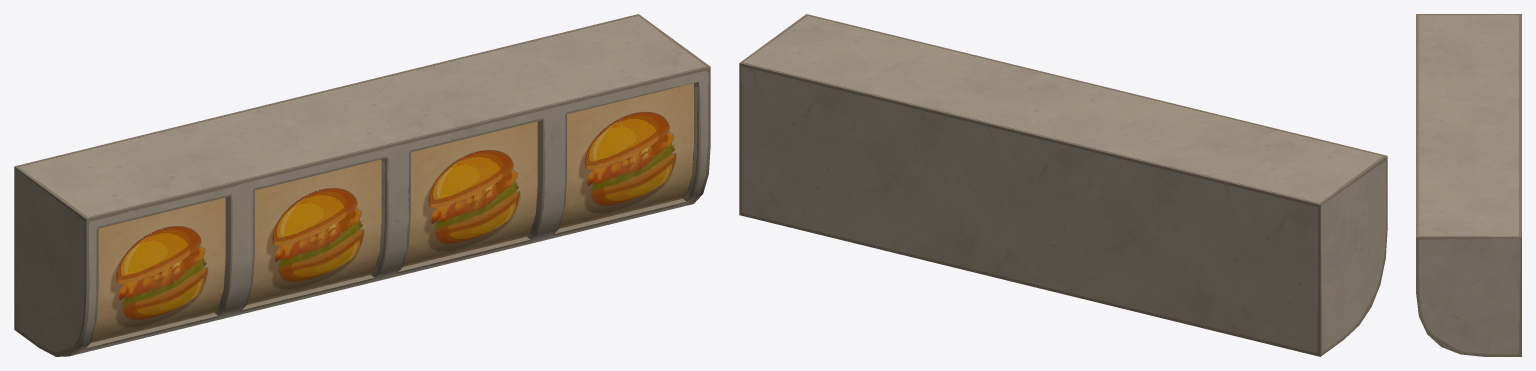
File: SM_menu_signage.glb
3 views of the same model, side by side, from view 1: azimuth 30°, elevation 25°; view 2: azimuth 150°, elevation 25°; view 3: azimuth 270°, elevation 25° (orthographic). The views are drawn at different scales.
Parts seen in each view (by area): view 1: SM_menu_signage; view 2: SM_menu_signage; view 3: SM_menu_signage.
Boxes of the visible parts, box(x1,y1,x2,y2) form: SM_menu_signage: box(14, 14, 710, 356); SM_menu_signage: box(739, 14, 1387, 356); SM_menu_signage: box(1416, 14, 1521, 356).
Size of the model in its own units: 8 by 2 by 1.6.
Materials: 2 (2 with a texture image).
